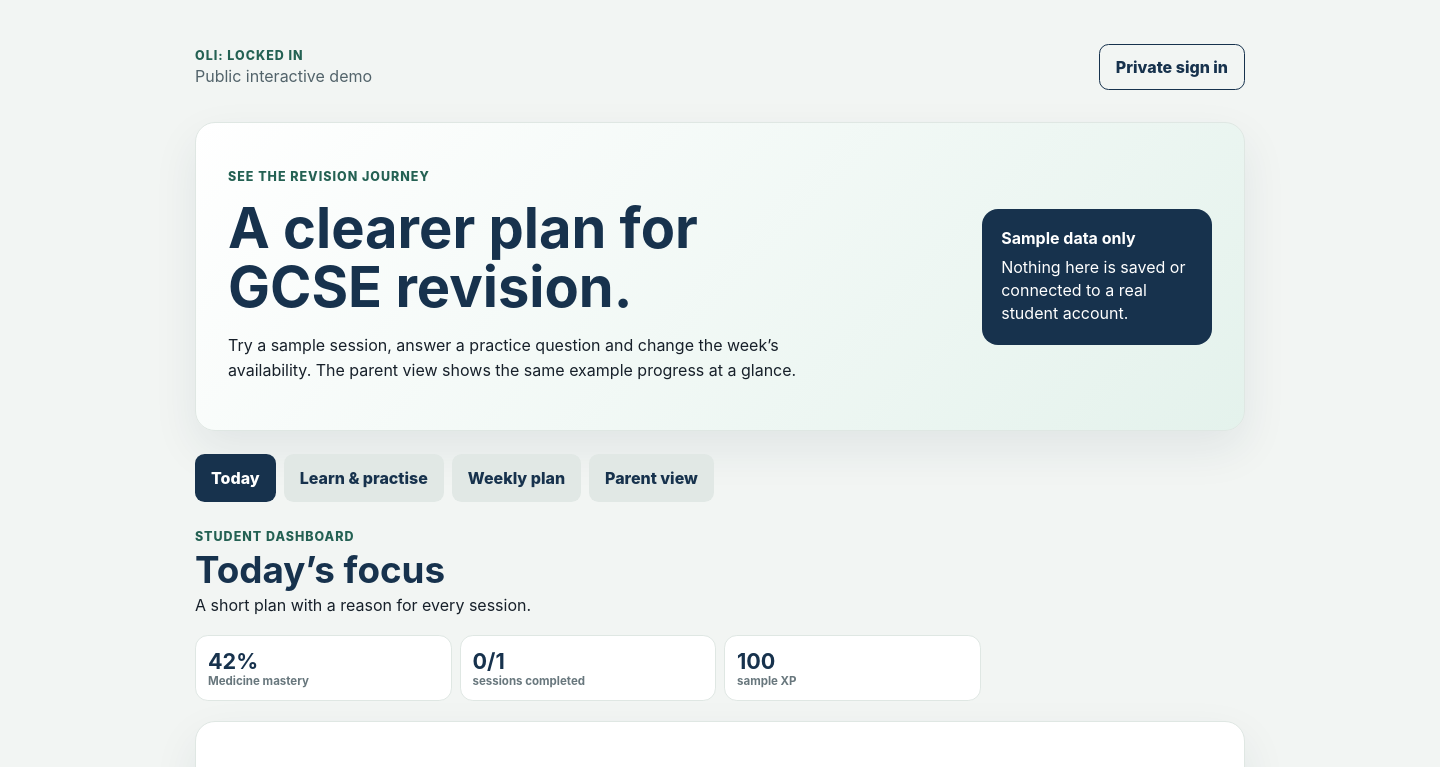
Test: public demo › checks a practice answer and moves a sample session when availability changes
Click the button "Learn & practise" at (364, 478), box [284,454,444,502]
(page scrolled)
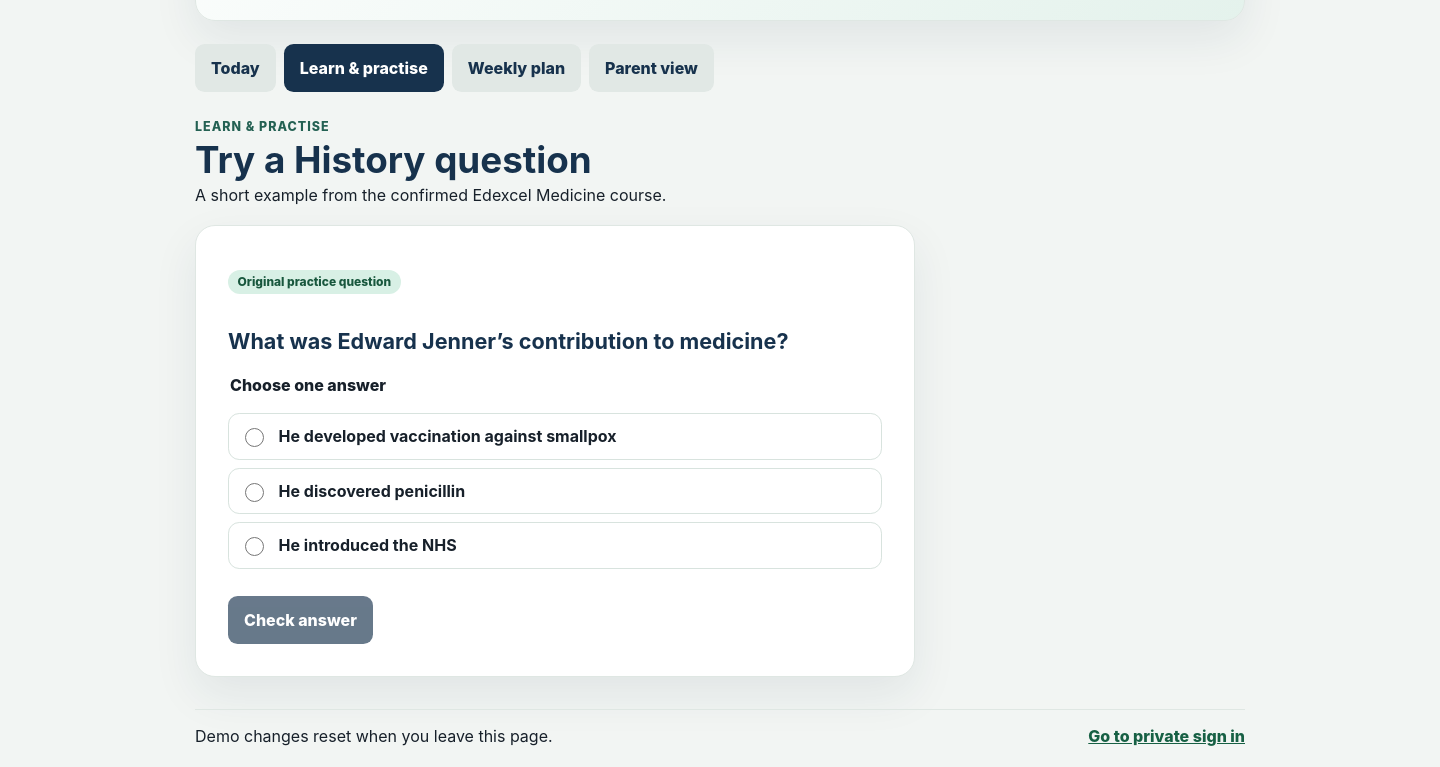
Click the radio button labelled "He developed vaccination against smallpox" at (255, 438), box [245,428,264,447]
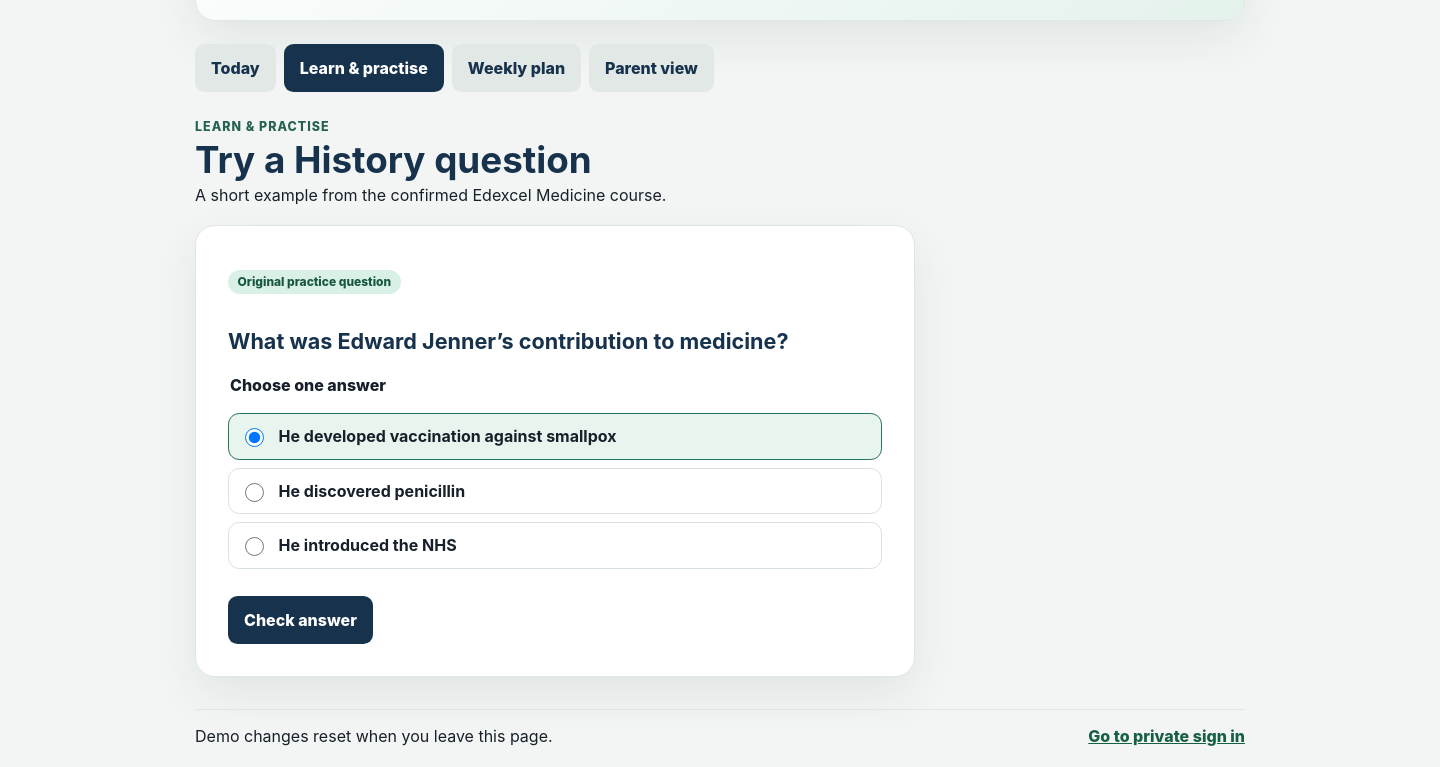
Click the button "Check answer" at (300, 620), box [228,596,373,644]
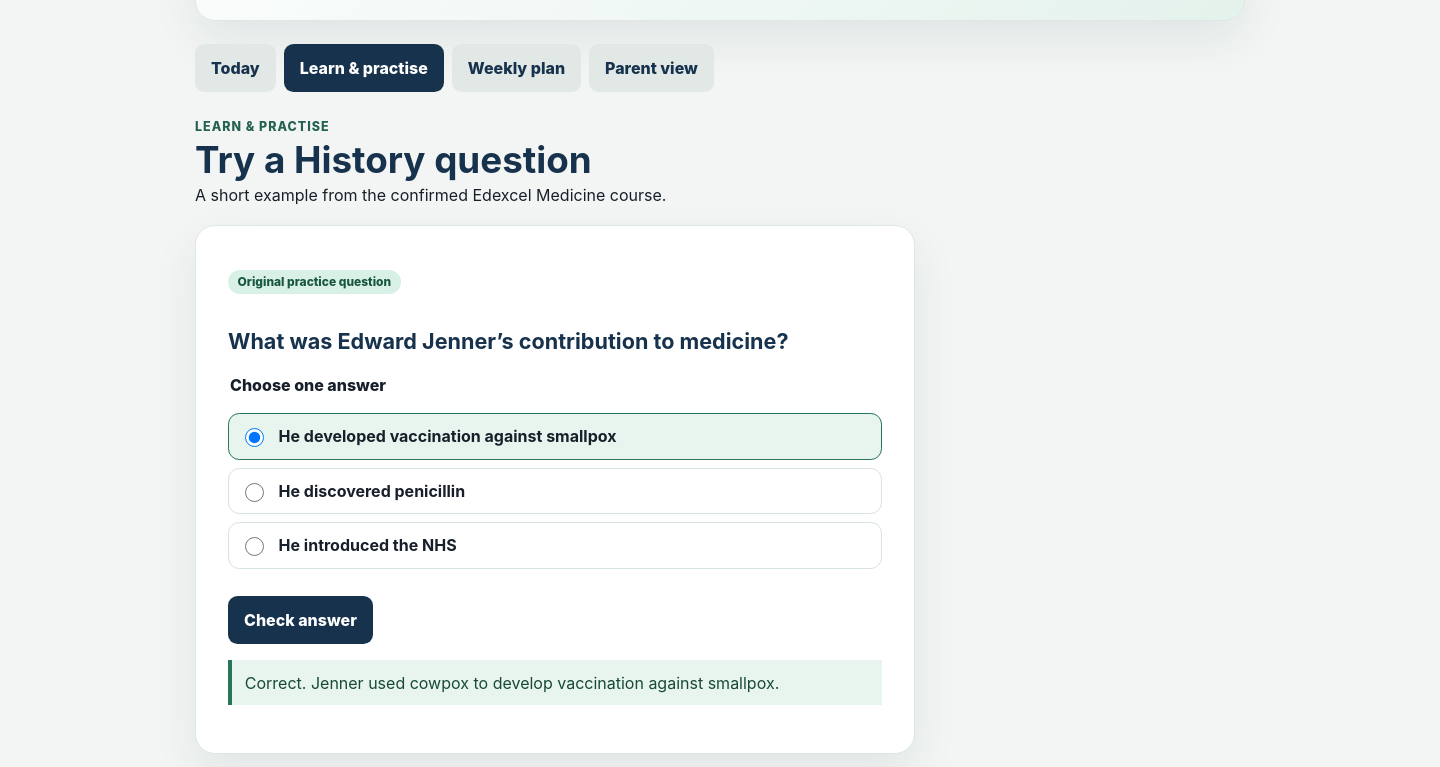
Check: the message shows "Correct", box [245,673,779,693]
Click the button "Weekly plan" at (516, 68), box [452,44,581,92]
(page scrolled)
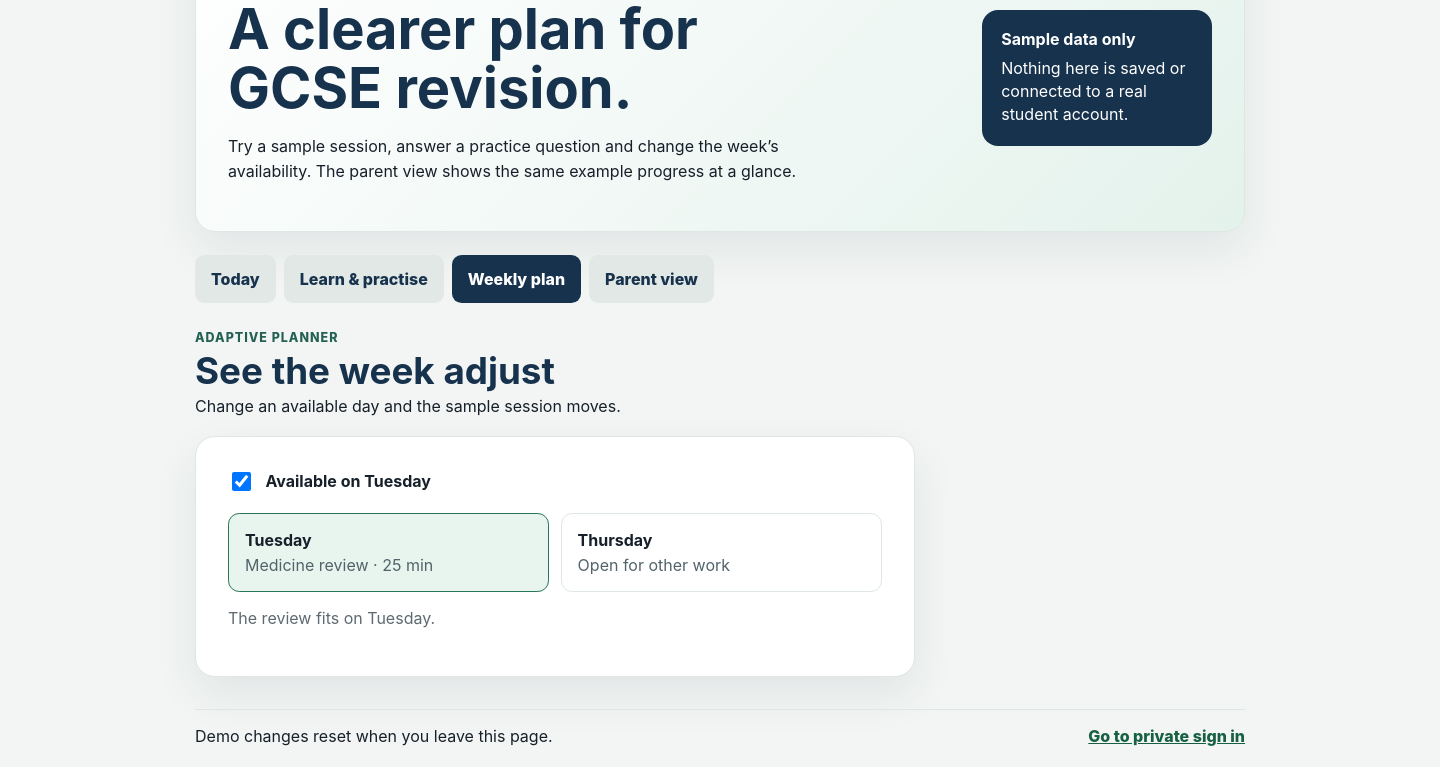
Click the checkbox labelled "Available on Tuesday" at (242, 481), box [232,472,251,491]
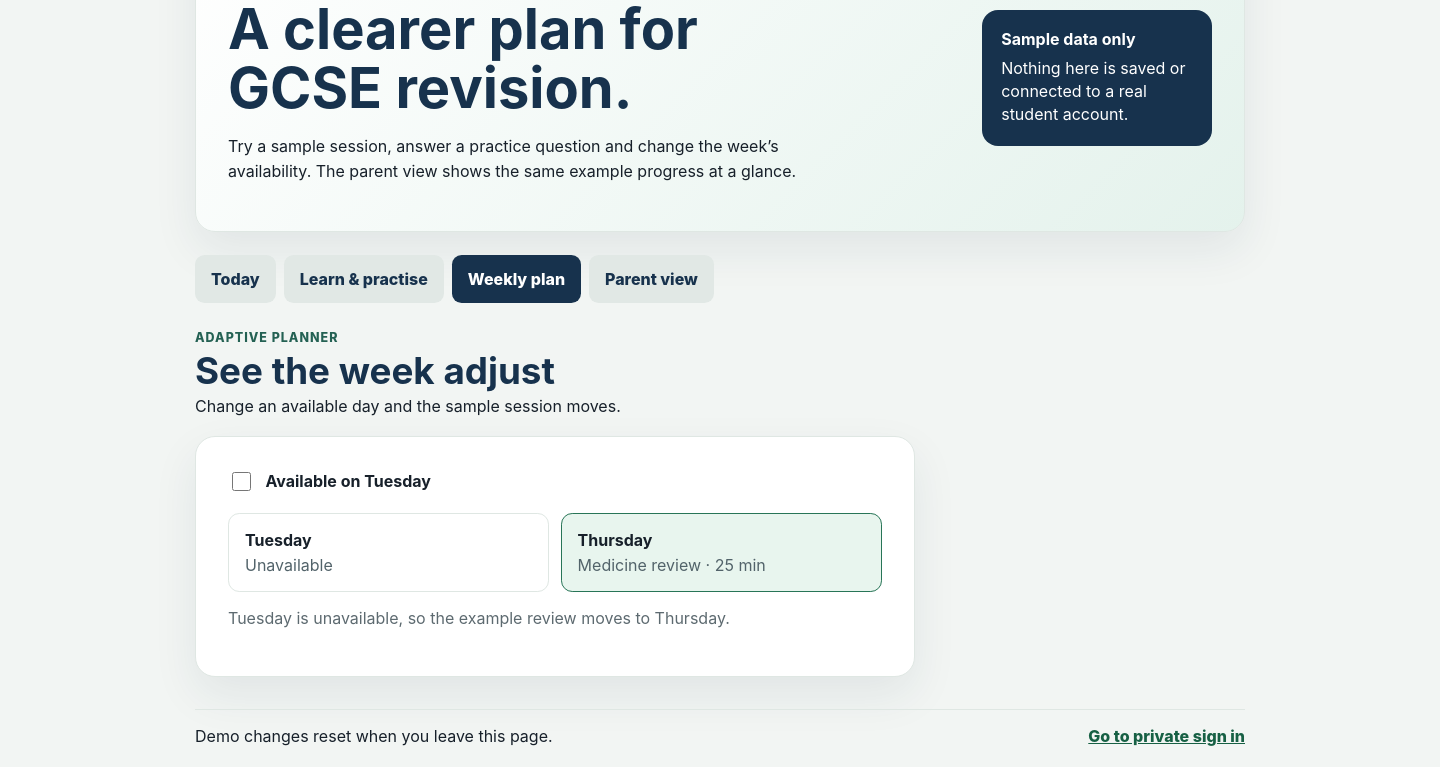
Check: the message shows "moves to Thursday", box [228,608,730,628]
